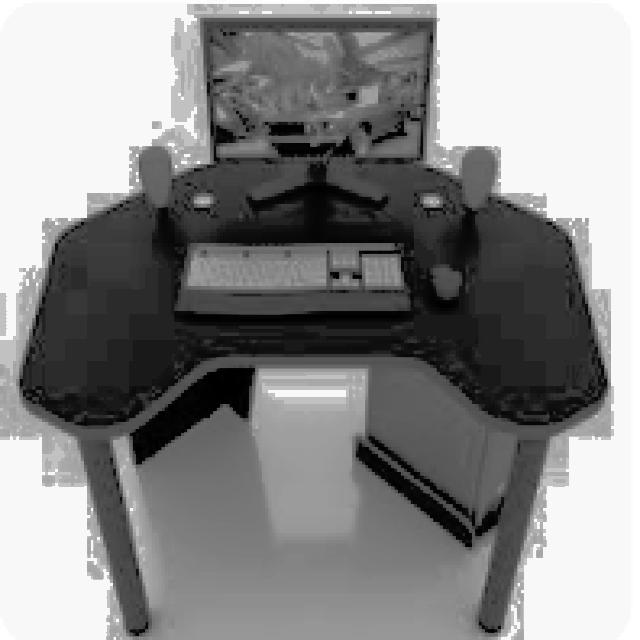table: (16, 154, 608, 636)
